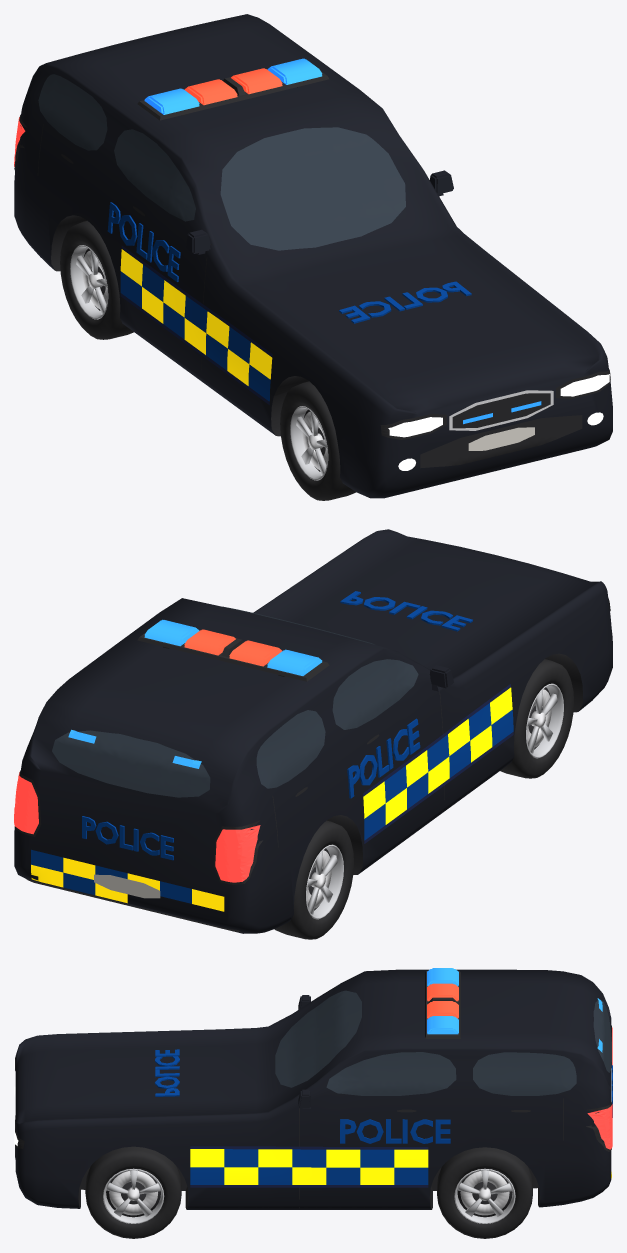
The model's file is suv.glb.
3 views of the same model, one above another, from view 1: azimuth 30°, elevation 25°; view 2: azimuth 150°, elevation 25°; view 3: azimuth 270°, elevation 25° (orthographic). The views are drawn at different scales.
Parts seen in each view (by area): view 1: body, glass, trim, livery_blue, wheel_fr, wheel_rr, livery_yellow, lights, lightbar_blue, lightbar_red, livery_dark, mirrors (+2 smaller); view 2: body, glass, livery_blue, livery_yellow, wheel_rr, wheel_fr, trim, lights, lightbar_blue, lightbar_red, livery_dark, plates; view 3: body, glass, wheel_fl, wheel_rl, livery_blue, livery_yellow, trim, livery_dark, lightbar_blue, lightbar_red, lights.
Part boxes in pixels (x1=…): body: x1=14, y1=14, x2=612, y2=498; glass: x1=38, y1=74, x2=405, y2=250; trim: x1=14, y1=71, x2=610, y2=468; livery_blue: x1=107, y1=202, x2=471, y2=401; wheel_fr: x1=280, y1=381, x2=356, y2=500; wheel_rr: x1=60, y1=220, x2=133, y2=339; livery_yellow: x1=120, y1=249, x2=272, y2=385; lights: x1=14, y1=117, x2=609, y2=470; lightbar_blue: x1=144, y1=58, x2=322, y2=114; lightbar_red: x1=184, y1=68, x2=282, y2=105; livery_dark: x1=120, y1=246, x2=272, y2=404; mirrors: x1=186, y1=170, x2=453, y2=254; body: x1=14, y1=529, x2=612, y2=933; glass: x1=52, y1=606, x2=418, y2=797; livery_blue: x1=31, y1=591, x2=513, y2=903; livery_yellow: x1=31, y1=687, x2=512, y2=911; wheel_rr: x1=274, y1=820, x2=353, y2=939; wheel_fr: x1=500, y1=659, x2=573, y2=778; trim: x1=14, y1=598, x2=610, y2=932; lights: x1=14, y1=600, x2=609, y2=882; lightbar_blue: x1=144, y1=619, x2=322, y2=675; lightbar_red: x1=184, y1=629, x2=282, y2=666; livery_dark: x1=363, y1=684, x2=513, y2=843; plates: x1=94, y1=874, x2=160, y2=898; body: x1=15, y1=969, x2=611, y2=1209; glass: x1=275, y1=990, x2=611, y2=1095; wheel_fl: x1=85, y1=1146, x2=181, y2=1238; wheel_rl: x1=437, y1=1147, x2=532, y2=1238; livery_blue: x1=155, y1=1049, x2=612, y2=1184; livery_yellow: x1=190, y1=1149, x2=611, y2=1184; trim: x1=15, y1=971, x2=611, y2=1209; livery_dark: x1=190, y1=1146, x2=428, y2=1187; lightbar_blue: x1=427, y1=968, x2=458, y2=1034; lightbar_red: x1=427, y1=983, x2=458, y2=1018; lights: x1=14, y1=1027, x2=612, y2=1170.
Size of the model in its own units: 2.01 by 1.8 by 4.98.
